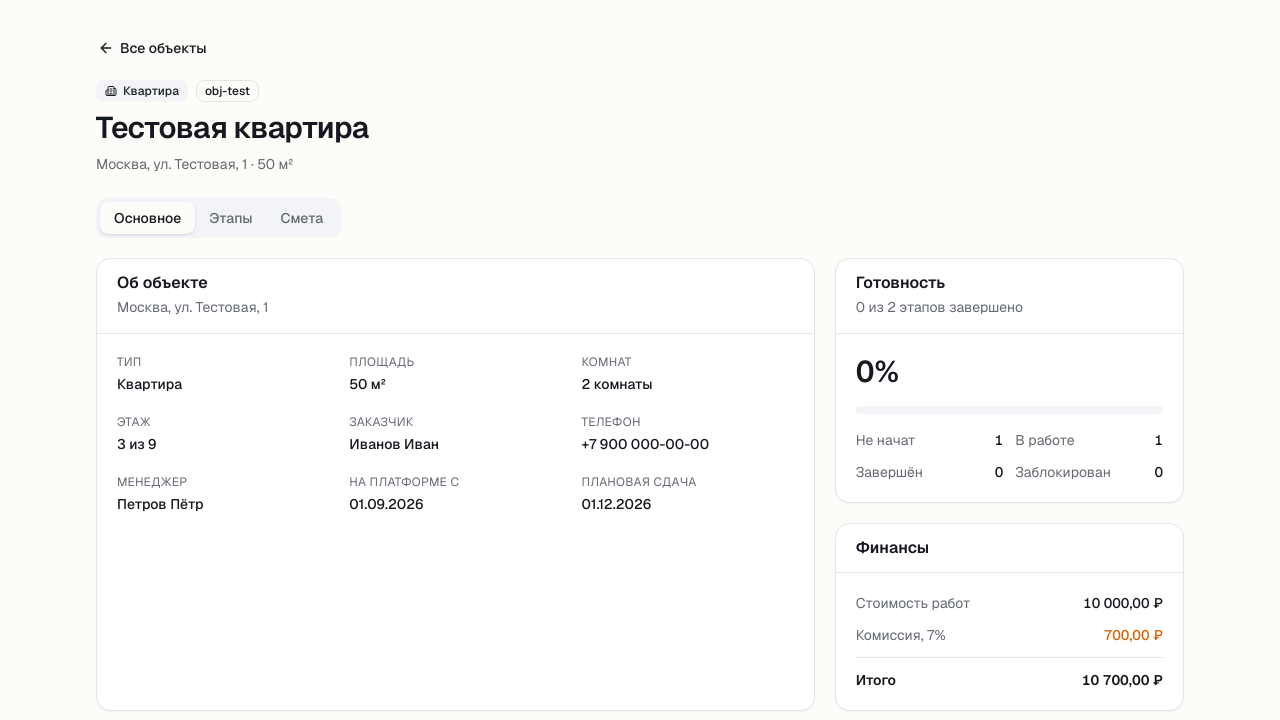
Test: ObjectPassportView · смена статуса этапа › открывает модалку только с разрешёнными переходами
Click the tab "Этапы". click: (231,218)
box: [195,202,266,234]
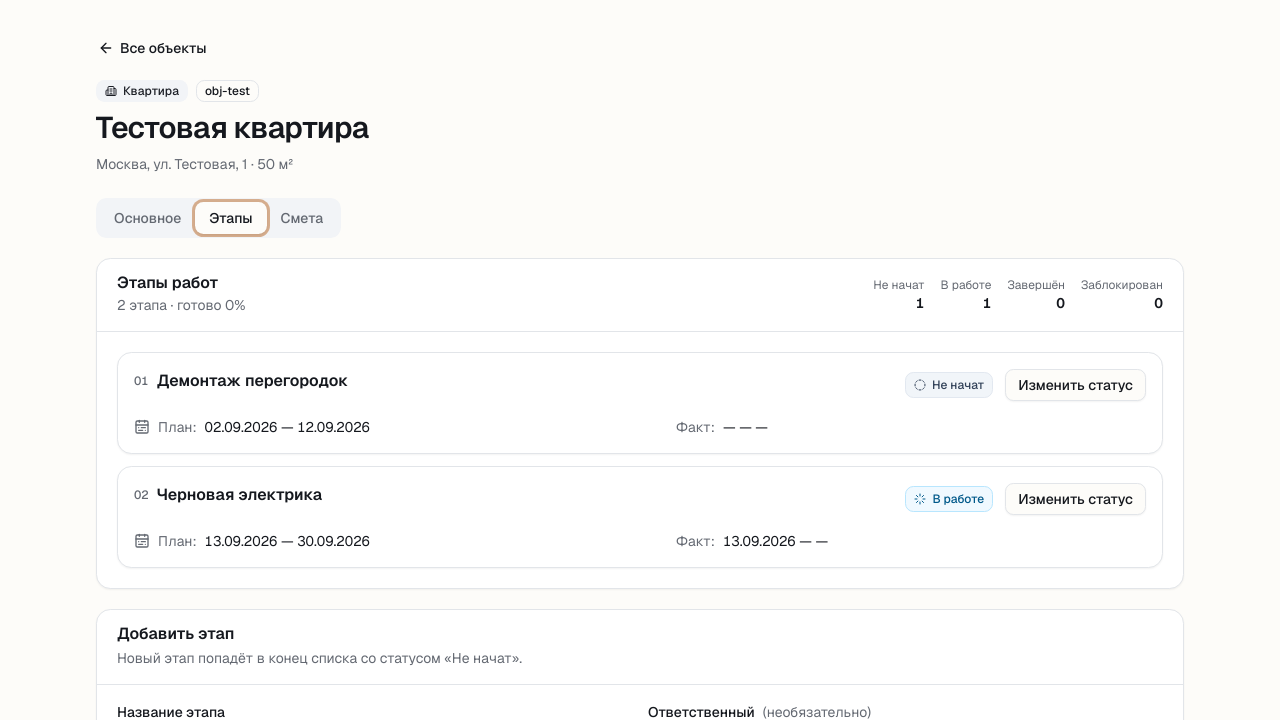
Click the button "Изменить статус" in the row of "Демонтаж перегородок". click: (1076,385)
box: [1005,369,1146,401]
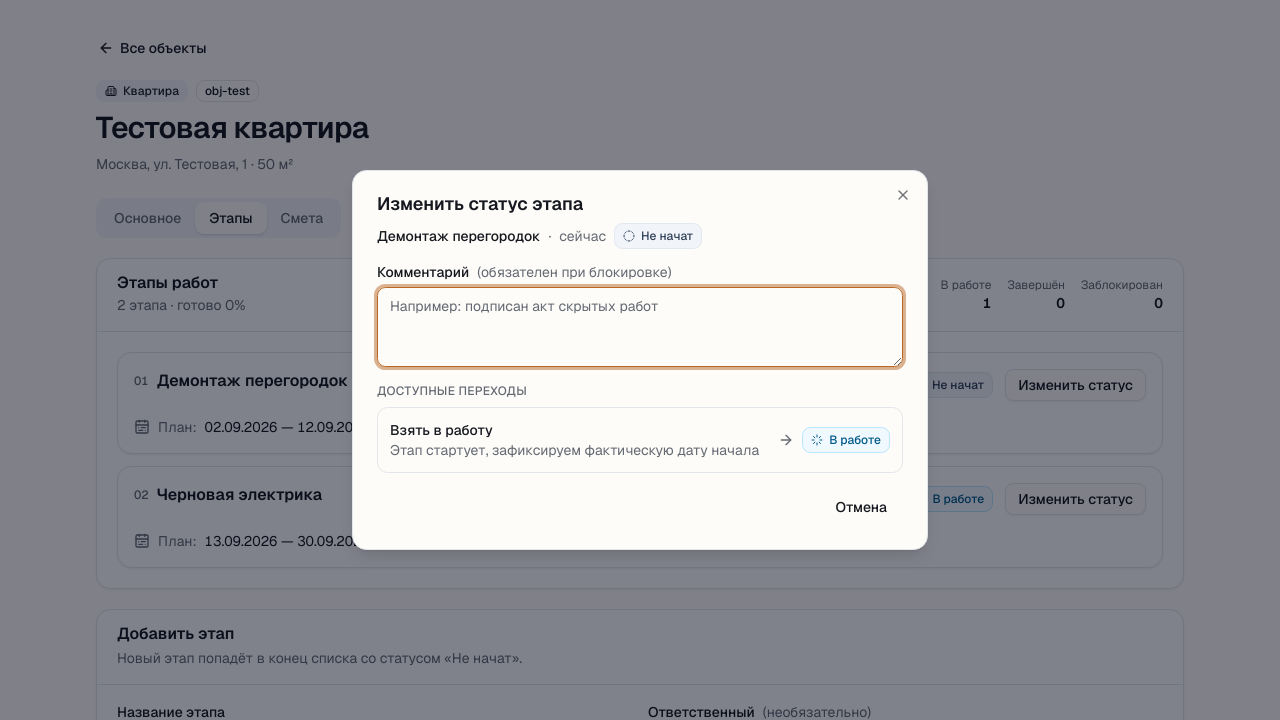
Check: the dialog is shown, box [352,170,928,550]
Check: the button with test id "transition-in_progress" is shown, box [377,407,903,473]
